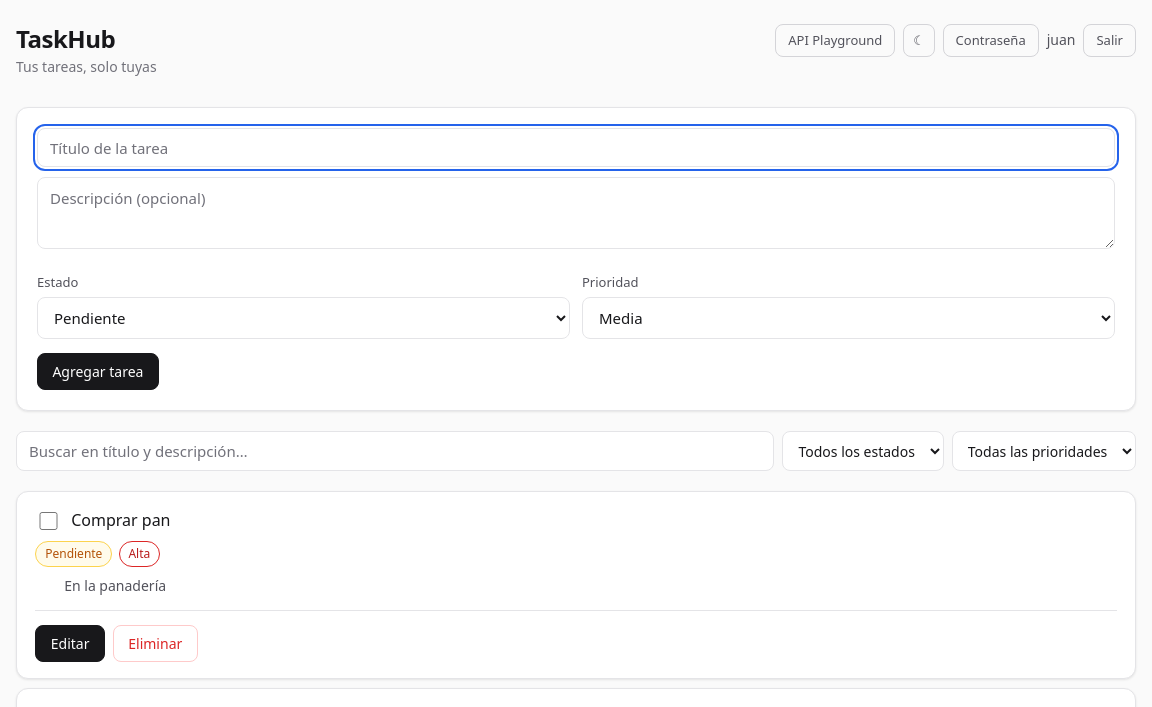
crear una tarea › avisa de que se ha creado
This screenshot has width=1152, height=707.
In the field with placeholder "Título de la tarea": x=576, y=148 [37,128,1115,167], type "Otra"
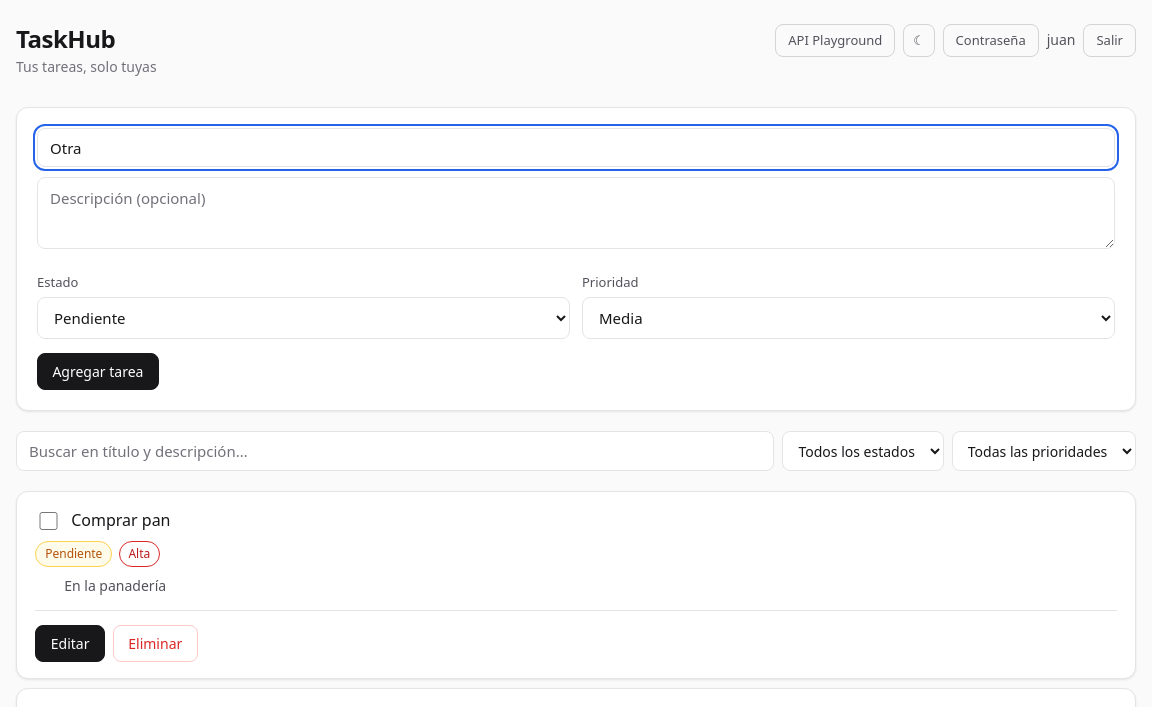
Click the button "Agregar tarea": x=98, y=372 [37,353,159,390]
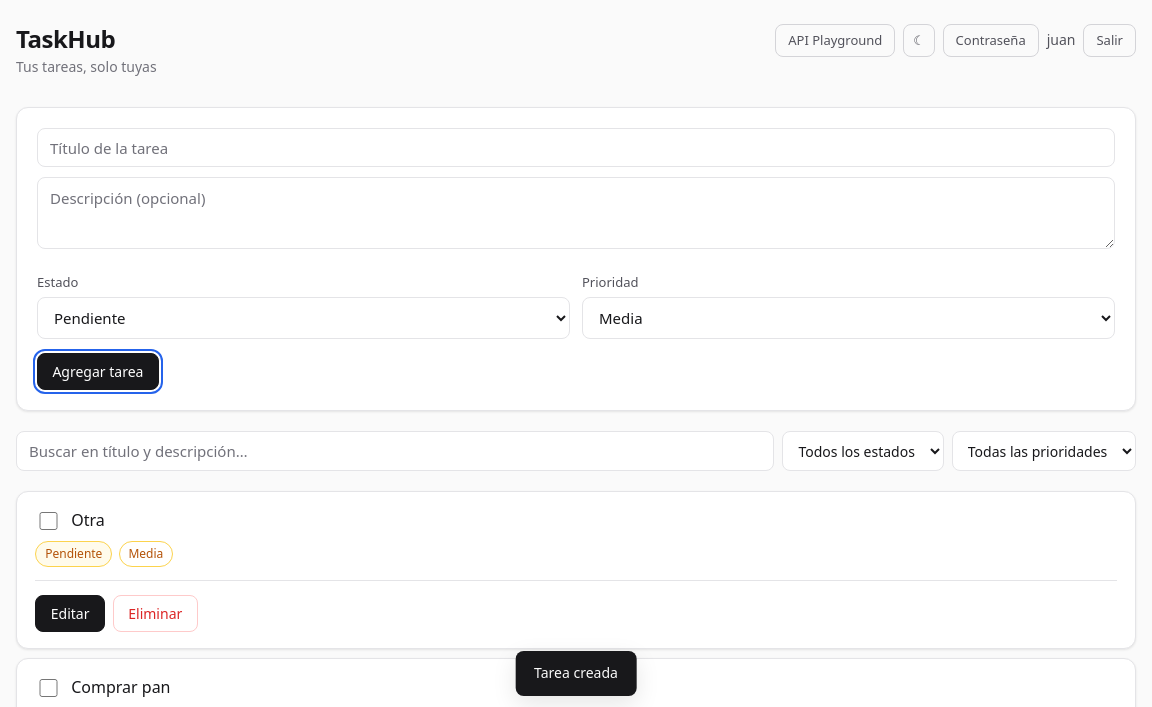
Now the message reads "Tarea creada", box [534,663,618,682]
